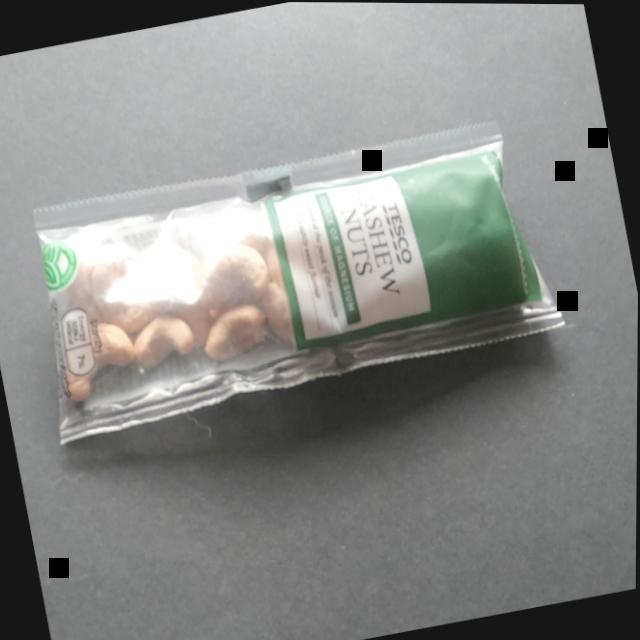Cashewnut: (3, 80, 583, 455)
